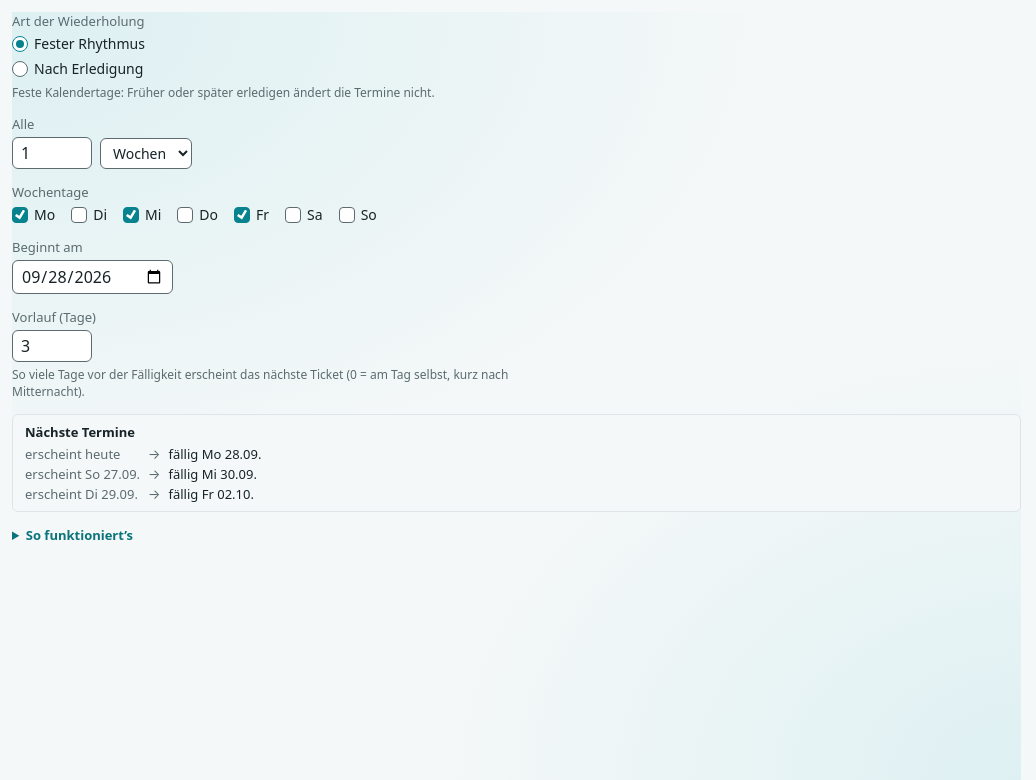
RecurrenceForm: preview with several weekdays (OR-1) › ignores the weekdays after completion
Click the radio button labelled "Nach Erledigung" at (20, 68), box 12,60 -> 28,76
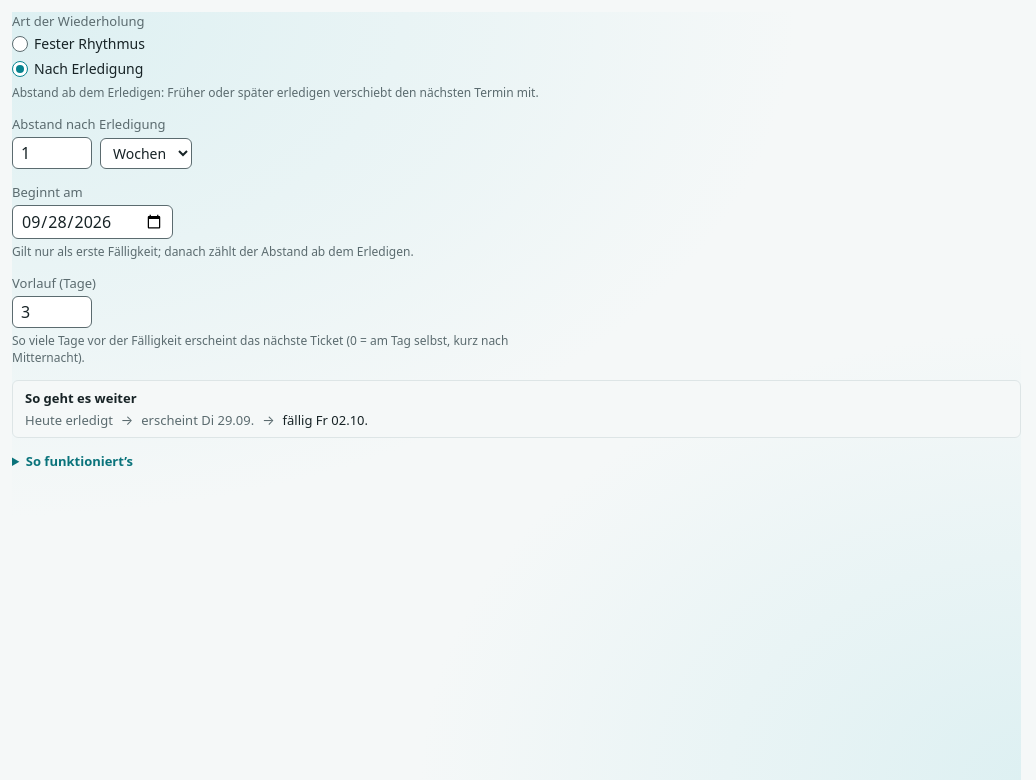
Result: the text "Wochentage" is gone
Result: the text "So geht es weiter" is shown at 25,389 -> 137,407
